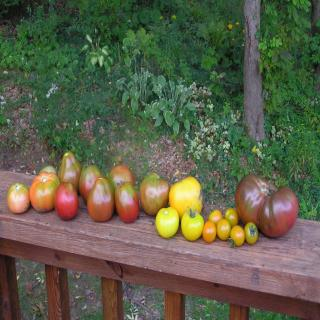Tomato: (4, 152, 203, 220), (235, 173, 298, 240), (156, 208, 180, 238), (182, 210, 204, 242), (217, 218, 231, 242), (202, 221, 216, 243), (244, 224, 259, 242), (232, 226, 244, 244), (224, 208, 237, 224), (208, 209, 222, 223)
